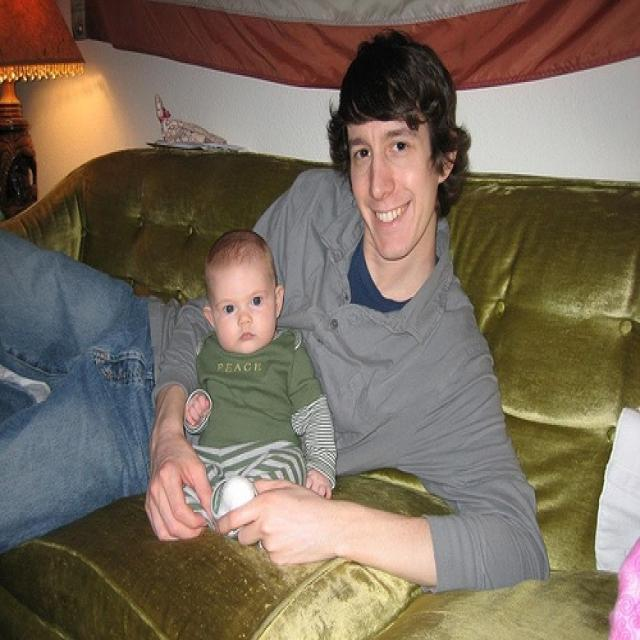sofa: (2, 148, 638, 638)
